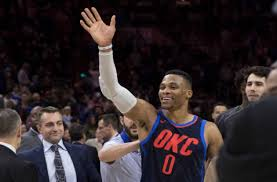palm: (77, 5, 118, 44)
